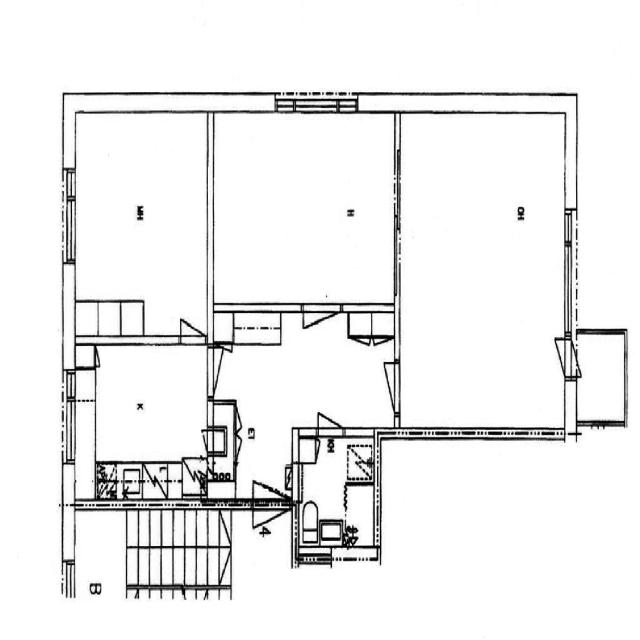door: (176, 314, 209, 348)
window: (56, 168, 84, 271), (556, 219, 580, 338), (389, 226, 406, 299)
zone: (395, 110, 574, 432), (210, 110, 400, 307), (66, 111, 211, 336), (66, 342, 222, 494), (299, 436, 372, 552), (69, 506, 128, 598), (573, 327, 627, 426), (343, 482, 375, 550)
